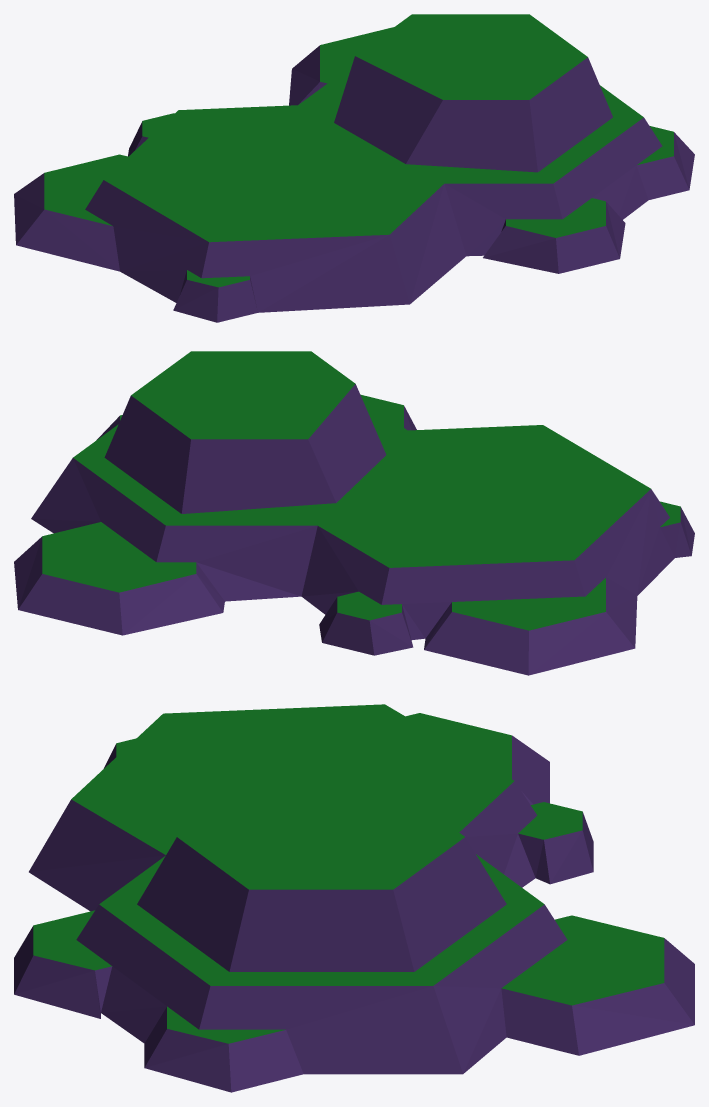
File: Piedra Grifo.fbx
The picture shows the model from 3 angles, top to bottom: view 1: azimuth 30°, elevation 25°; view 2: azimuth 150°, elevation 25°; view 3: azimuth 270°, elevation 25°; orthographic projection. The views are drawn at different scales.
Parts seen in each view (by area): view 1: rockFlatGrass; view 2: rockFlatGrass; view 3: rockFlatGrass.
Boxes of the visible parts, x1=… form: rockFlatGrass: x1=14, y1=14, x2=694, y2=322; rockFlatGrass: x1=14, y1=351, x2=694, y2=675; rockFlatGrass: x1=14, y1=704, x2=694, y2=1092.
Bounding box in the file's own units: 5900 × 4700 × 1090.
2 materials, 1 textured.
